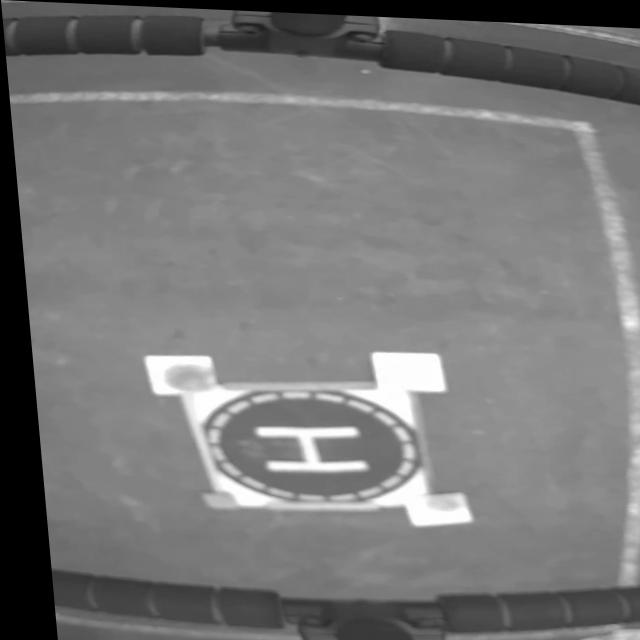Helipad: (242, 423, 361, 469)
